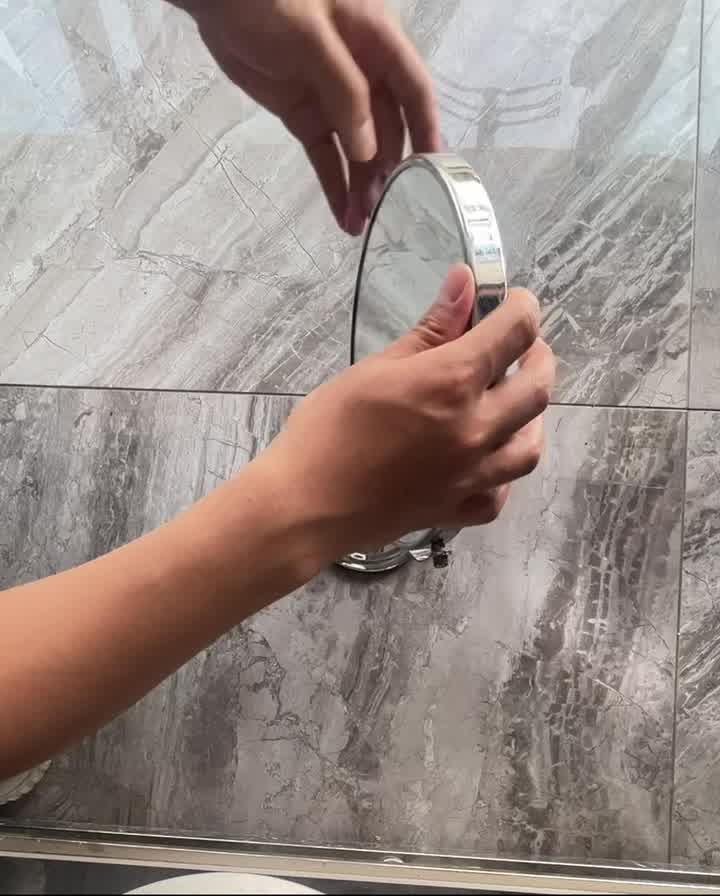mirror: (324, 129, 516, 569)
